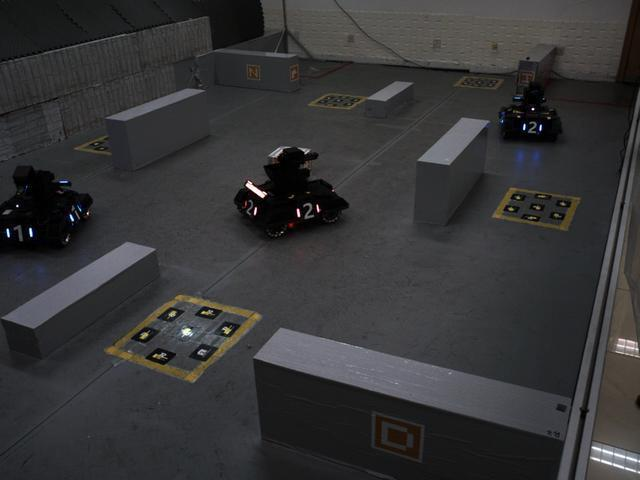armor: (0, 221, 39, 245), (292, 198, 323, 224), (239, 194, 261, 223), (66, 200, 86, 231), (519, 118, 547, 139)
